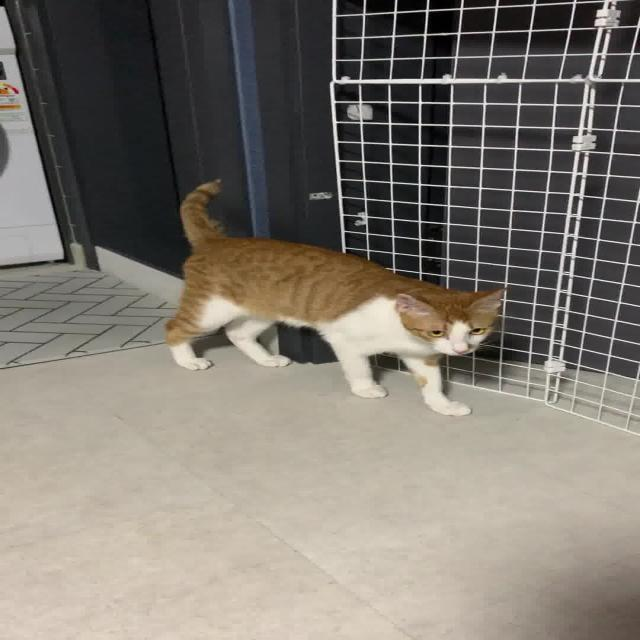cat: (111, 171, 545, 424)
